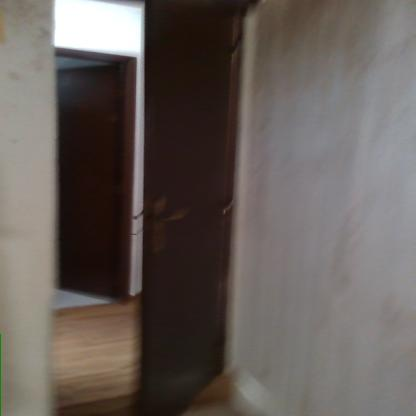semi: (43, 0, 253, 413)
